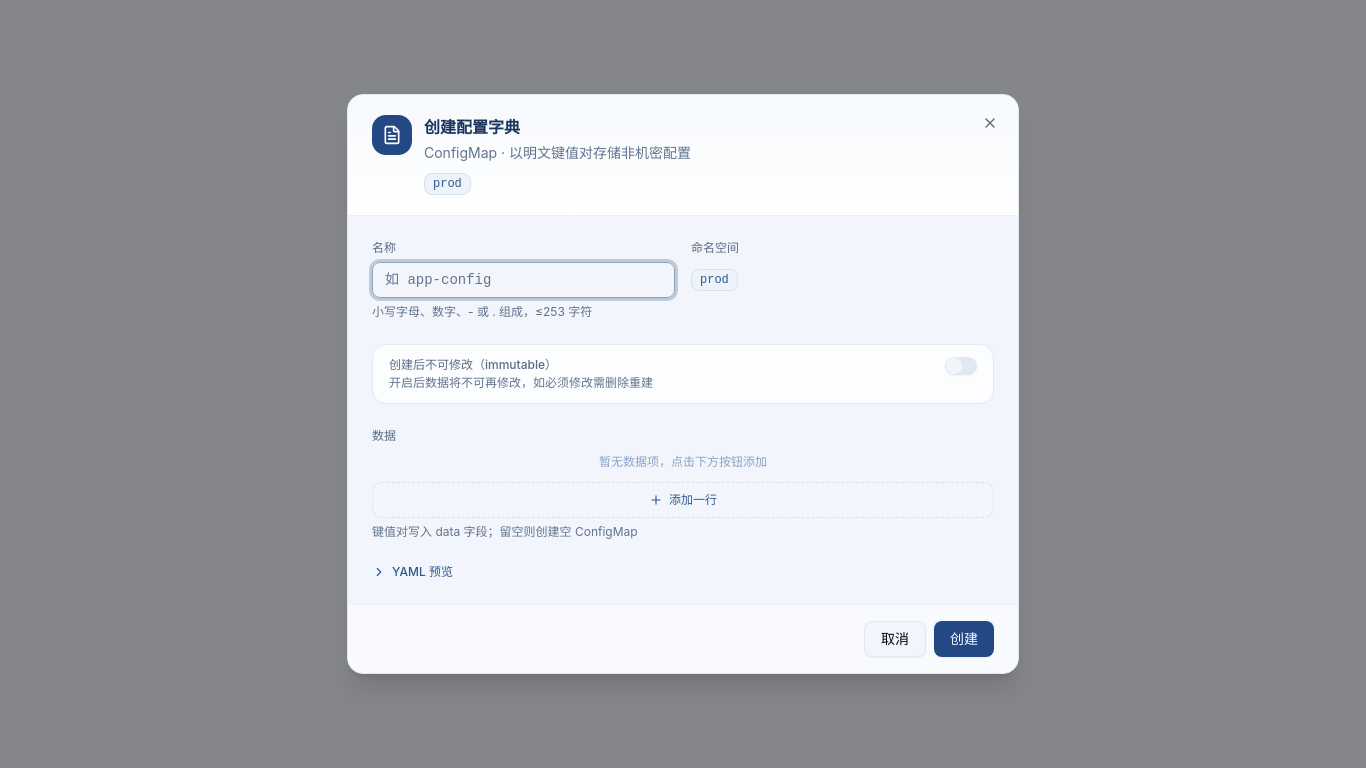
Test case: CmCreateDialog › adds and removes data rows
Expected: the text "暂无数据项，点击下方按钮添加" is shown, [599,454,767,469]
Click the button "添加一行".
click(683, 500)  # box [372,482,994,518]
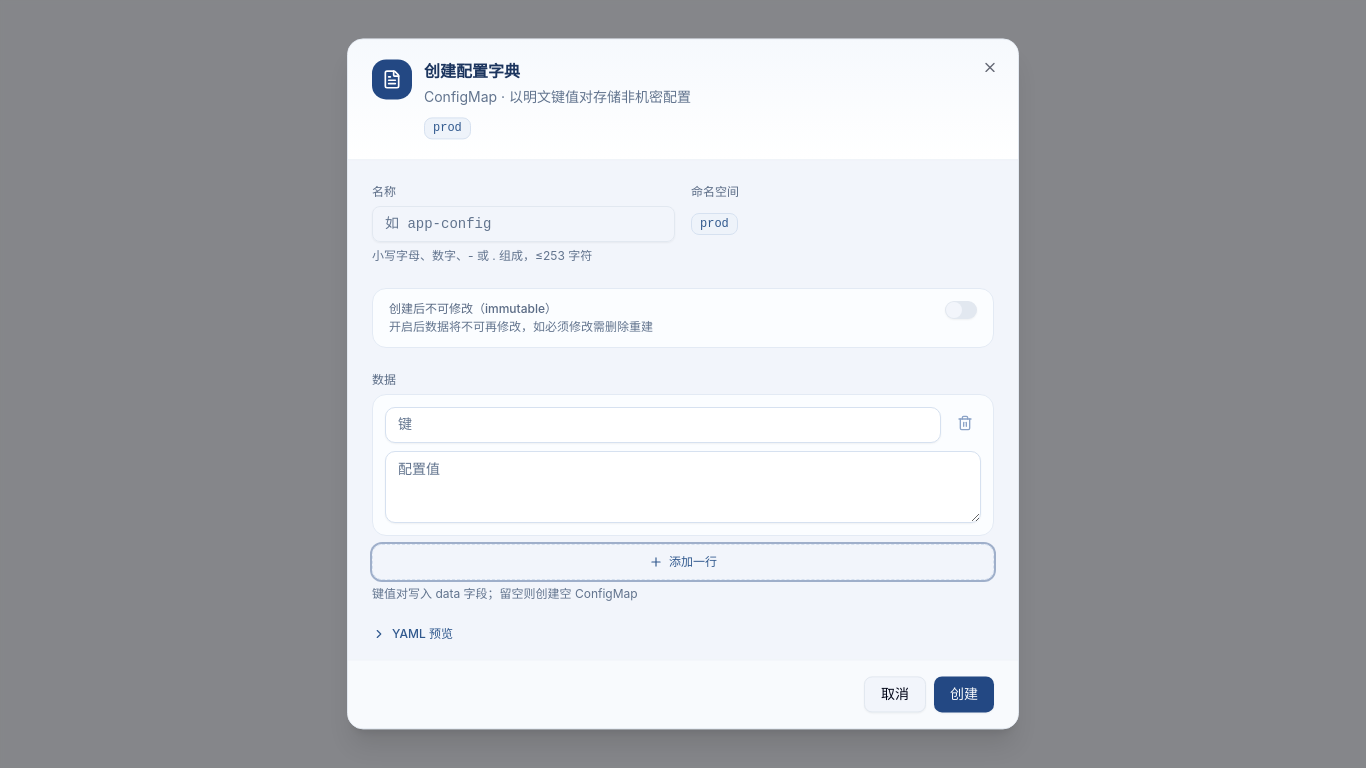
Click the button "添加一行".
click(683, 562)  # box [372,544,994,580]
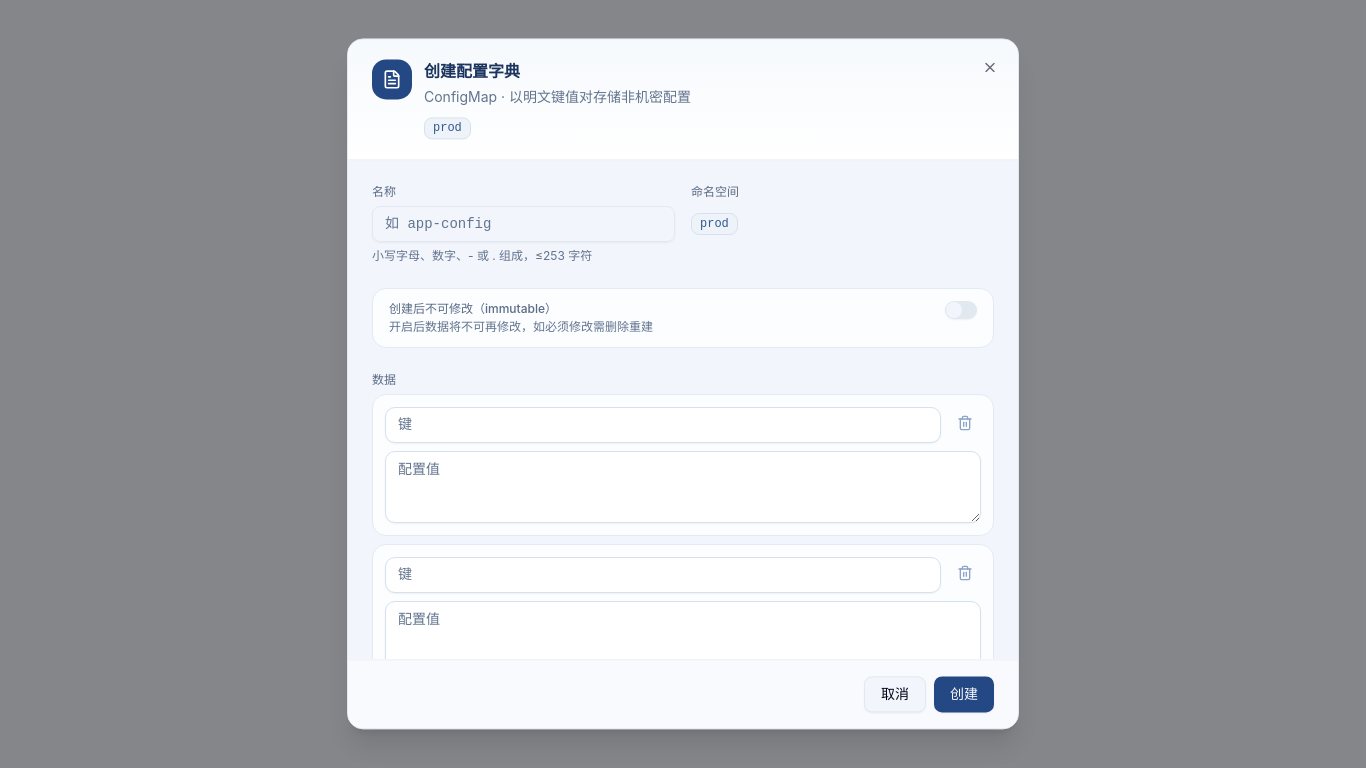
Expected: the field named "键 1" is shown
Expected: the field named "键 2" is shown, [385,557,941,593]
Type "one" into the field named "键 1".
click(663, 425); type("one")  # box [385,407,941,443]
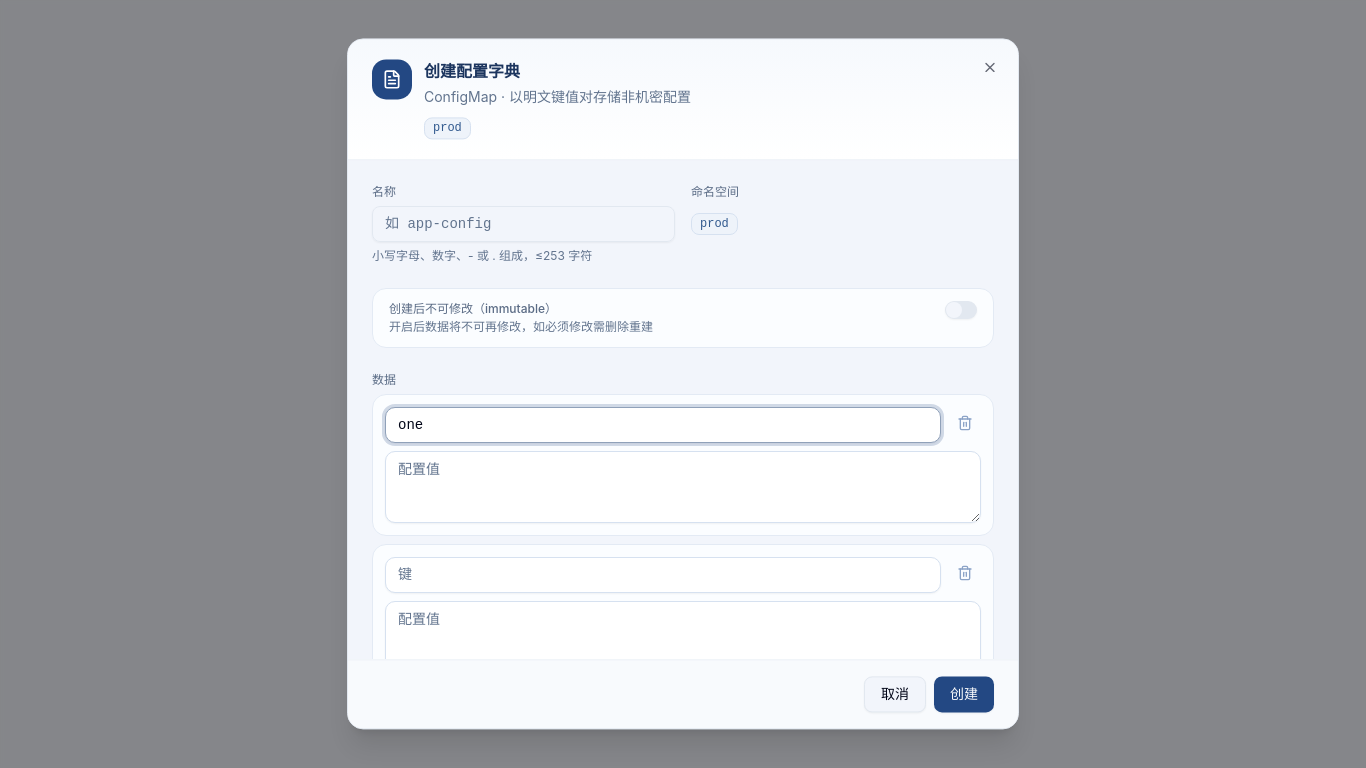
Type "two" into the field named "键 2".
click(663, 575); type("two")  # box [385,557,941,593]
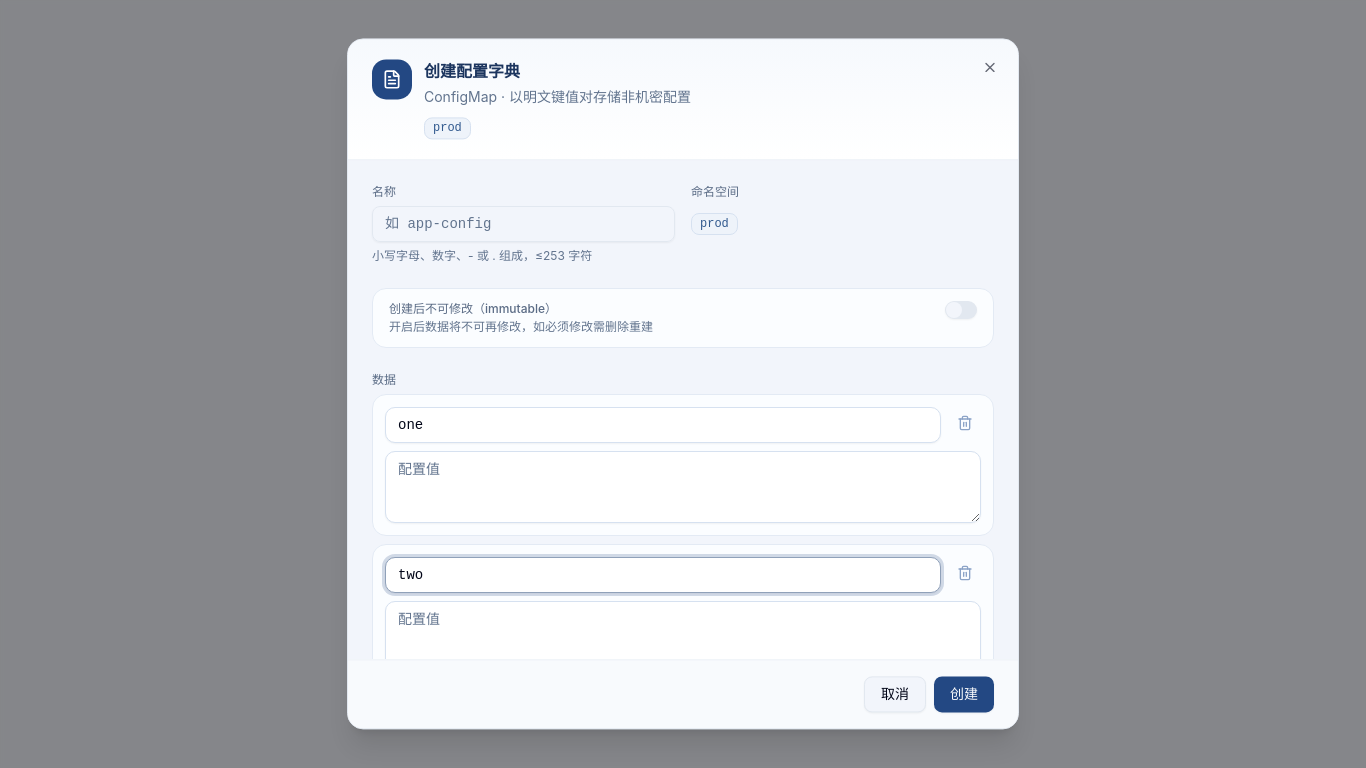
Click the 1st button named "删除此行".
click(965, 423)  # box [949,407,981,439]
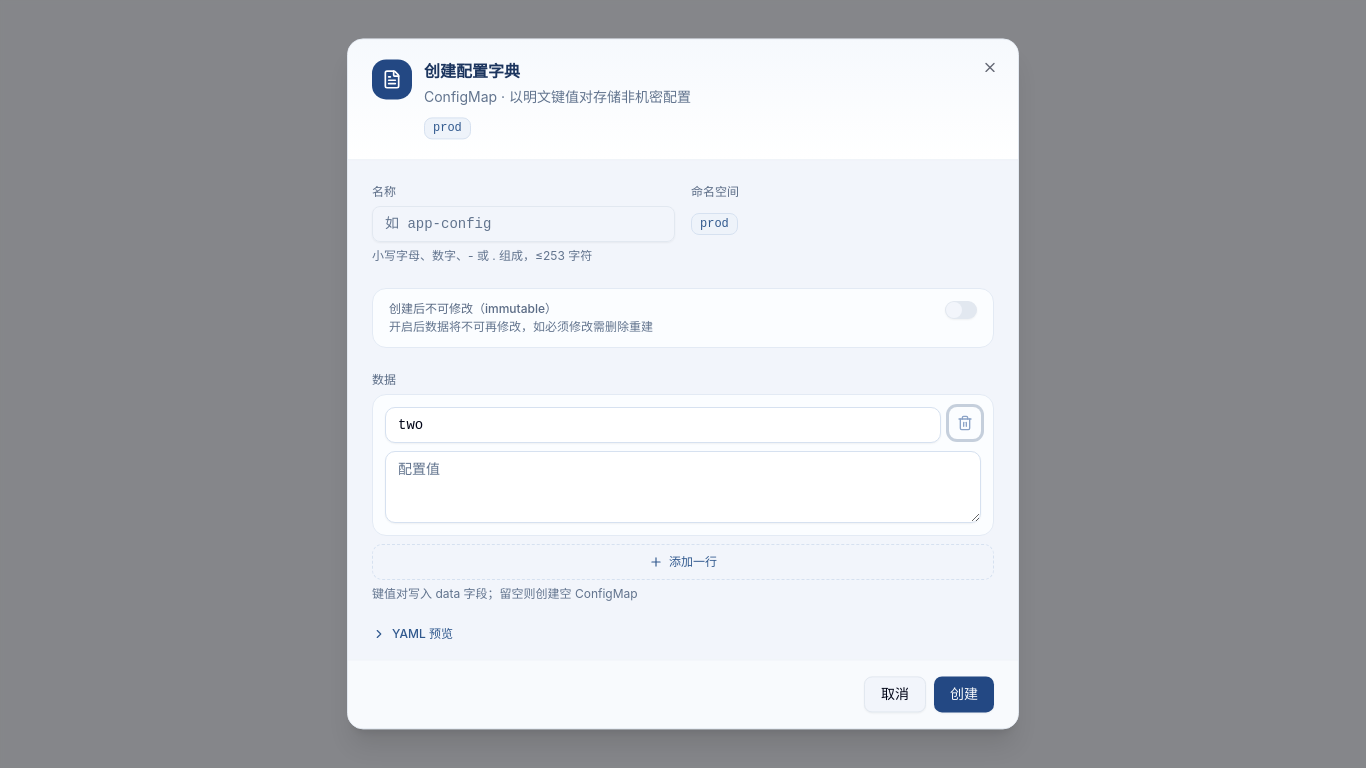
Expected: the field named "键 1" holds "two", [385,407,941,443]
